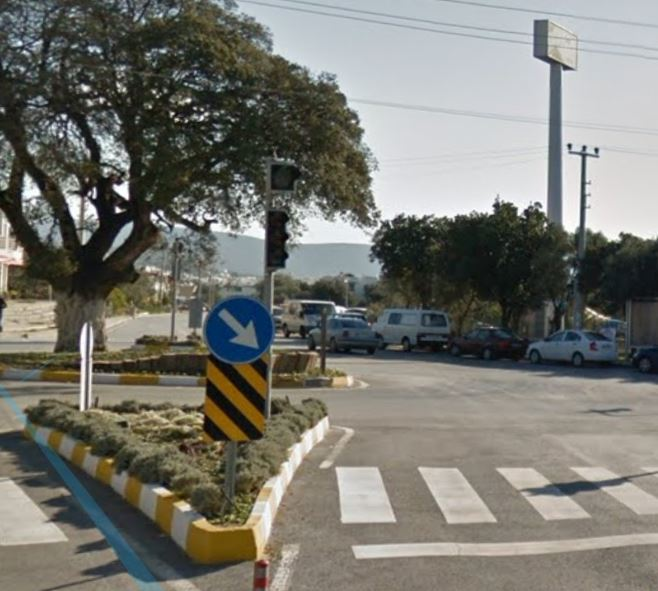Sagdan Git: (202, 294, 275, 363)
